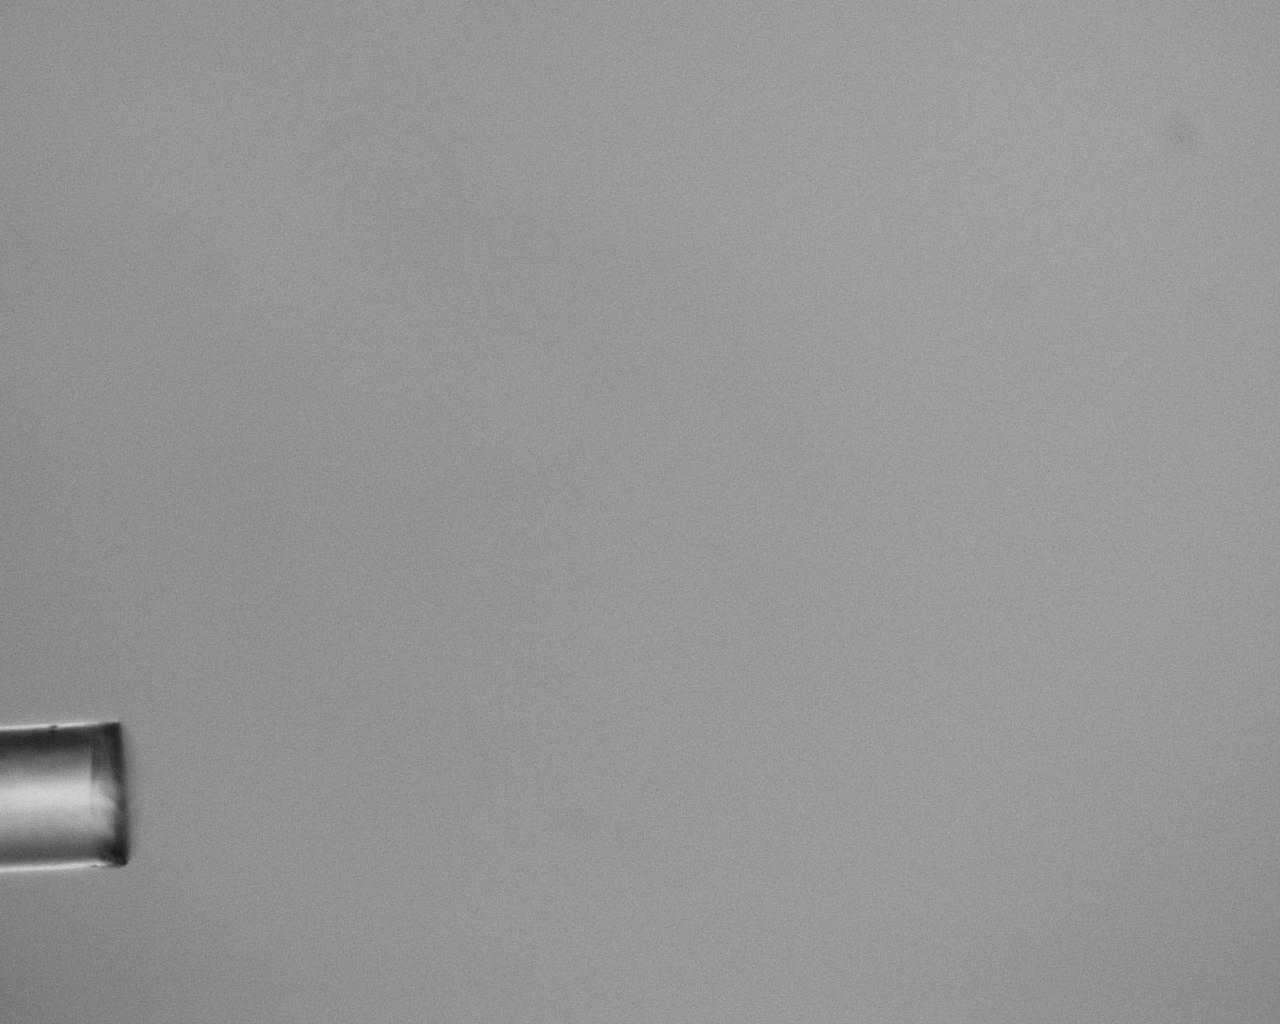fiber: (0, 720, 134, 874)
